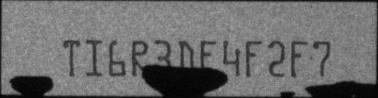2: (268, 39, 286, 78)
3: (155, 39, 172, 77)
4: (223, 40, 240, 75)
6: (108, 39, 126, 77)
7: (313, 39, 330, 75)
D: (178, 40, 194, 78)
F: (245, 40, 263, 77), (291, 40, 309, 77), (200, 39, 217, 77)
I: (86, 39, 103, 77)
R: (131, 39, 149, 76)
T: (63, 39, 80, 76)
